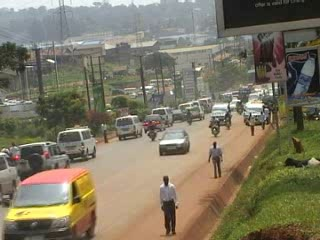Car: (12, 139, 71, 179), (156, 125, 193, 157), (140, 112, 164, 134), (170, 108, 183, 123), (227, 98, 242, 111)
Motorcycle: (207, 113, 222, 138), (145, 119, 156, 143), (222, 109, 234, 131), (234, 98, 245, 115), (185, 107, 194, 127)
